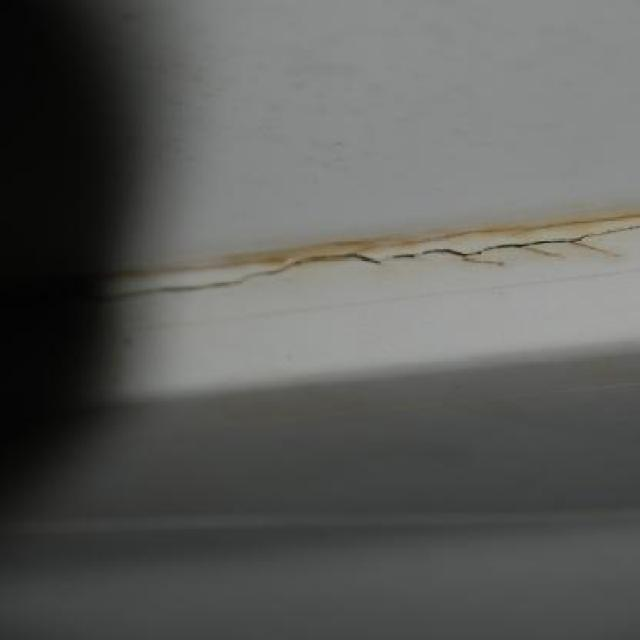crack: (107, 220, 640, 302)
